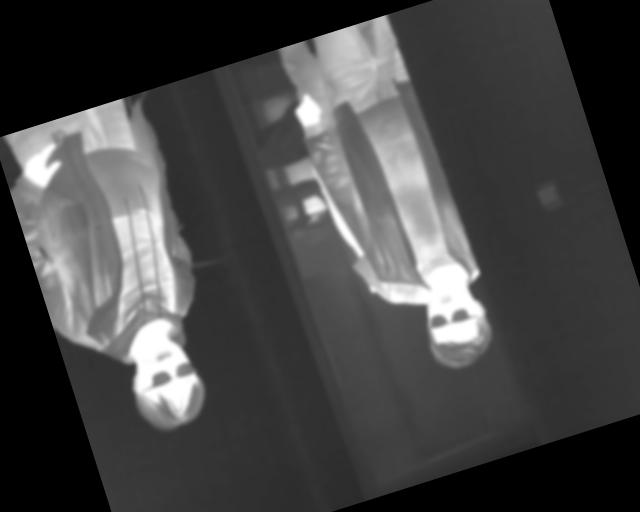face: (119, 331, 214, 441), (414, 268, 499, 371)
